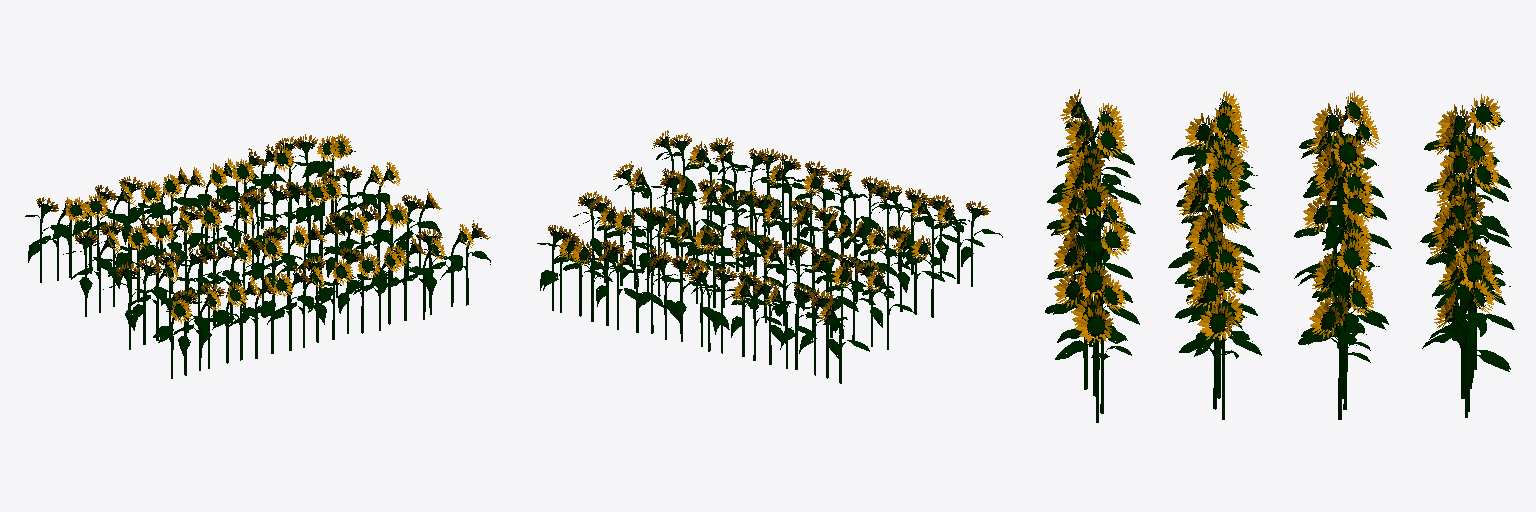
--- What the picture shows (computed from the rendered views, not written in the file) ---
Views: 3 orthographic renders of the robot side by side, from view 1: azimuth 30°, elevation 25°; view 2: azimuth 150°, elevation 25°; view 3: azimuth 270°, elevation 25°.
Robot: field — 85 links, 84 joints (84 fixed); root link dummy_link; default pose: every joint at zero.
Links seen in each view (by area): view 1: plant_56, plant_4, plant_13, plant_48, plant_20, plant_3, plant_72, plant_14, plant_7, plant_9, plant_2, plant_80 (+12 smaller); view 2: plant_69, plant_3, plant_10, plant_8, plant_13, plant_50, plant_44, plant_70, plant_2, plant_4, plant_25, plant_45 (+12 smaller); view 3: plant_84, plant_83, plant_82, plant_81, plant_73, plant_72, plant_61, plant_18, plant_78, plant_42, plant_79, plant_80 (+28 smaller).
Link boxes in pixels (x1,y1,x2,y2): plant_56: (344,253,383,333); plant_4: (153,298,192,378); plant_13: (71,193,111,273); plant_48: (315,260,353,339); plant_20: (210,282,247,363); plant_3: (103,262,152,349); plant_72: (397,238,445,319); plant_14: (115,225,151,305); plant_7: (131,259,174,344); plant_9: (51,197,89,277); plant_2: (63,231,113,316); plant_80: (432,224,473,306); plant_69: (563,239,612,321); plant_3: (905,235,955,317); plant_10: (825,263,875,339); plant_8: (934,200,984,283); plant_13: (780,283,821,369); plant_50: (685,226,734,307); plant_44: (795,169,845,247); plant_70: (605,207,653,288); plant_2: (862,267,913,349); plant_4: (950,201,1002,286); plant_25: (731,278,781,360); plant_45: (662,255,707,341); plant_84: (1055,307,1127,422); plant_83: (1179,303,1252,419); plant_82: (1298,301,1370,419); plant_81: (1434,294,1509,417); plant_73: (1422,279,1493,398); plant_72: (1045,270,1113,389); plant_61: (1435,254,1510,369); plant_18: (1307,133,1378,199); plant_78: (1301,291,1370,409); plant_42: (1294,194,1344,253); plant_79: (1190,291,1246,409); plant_80: (1060,294,1131,413).
Bounding box of the posed robot: 3.44 × 2.86 × 0.8235 m (x, y, z).
Meshes: 1 distinct files referenced, 84 mesh visuals loaded (1 Collada DAE).

robot.urdf — field:
<?xml version="1.0"?> 
<robot name="field"> 
 <!-- auto generated urdf file --> 
 <link name="dummy_link"> 
  <inertial> 
   <origin xyz="0 0 0" /> 
   <mass value="5.0" /> 
   <inertia ixx="0.0" ixy="0.0" ixz="0.0" iyy="0.0" iyz="0.0" izz="0.0" /> 
  </inertial> 
  <visual> 
   <origin xyz="0 0 0" /> 
   <geometry> 
    <box size="0.00 0.00 0.00" /> 
   </geometry> 
  </visual> 
  <collision> 
   <origin xyz="0 0 0" /> 
   <geometry> 
    <box size="0.00 0.00 0.00" /> 
   </geometry> 
  </collision> 
 </link> 
 
 
 <!-- generate plants --> <link name="plant_1">
  <inertial>
   <origin xyz="0 0 0" /> 
   <mass value="5.0" />
   <inertia ixx="0.0" ixy="0.0" ixz="0.0" iyy="0.0" iyz="0.0" izz="0.0" />
  </inertial>
  <visual>
   <origin xyz="0 0 0"/>
   <geometry>
    <mesh filename="package://herbi_gazebo_worlds/ros/meshes/sunflower.dae"/>
   </geometry>
  </visual>
  <collision>
   <origin xyz="0 0 0.2"/>
   <geometry>
    <cylinder length="0.4" radius="0.02"/>
   </geometry>
  </collision>
 </link>

 <joint name="joint_plant_1" type="fixed">
  <origin xyz="0.022650 0.402537 0.000000" rpy="0.000000 0.000000 2.392658" />
  <parent link="dummy_link" />
  <child link="plant_1" />
 </joint>


 <link name="plant_2">
  <inertial>
   <origin xyz="0 0 0" /> 
   <mass value="5.0" />
   <inertia ixx="0.0" ixy="0.0" ixz="0.0" iyy="0.0" iyz="0.0" izz="0.0" />
  </inertial>
  <visual>
   <origin xyz="0 0 0"/>
   <geometry>
    <mesh filename="package://herbi_gazebo_worlds/ros/meshes/sunflower.dae"/>
   </geometry>
  </visual>
  <collision>
   <origin xyz="0 0 0.2"/>
   <geometry>
    <cylinder length="0.4" radius="0.02"/>
   </geometry>
  </collision>
 </link>

 <joint name="joint_plant_2" type="fixed">
  <origin xyz="0.014551 -0.409560 0.000000" rpy="0.000000 0.000000 2.863765" />
  <parent link="dummy_link" />
  <child link="plant_2" />
 </joint>


 <link name="plant_3">
  <inertial>
   <origin xyz="0 0 0" /> 
   <mass value="5.0" />
   <inertia ixx="0.0" ixy="0.0" ixz="0.0" iyy="0.0" iyz="0.0" izz="0.0" />
  </inertial>
  <visual>
   <origin xyz="0 0 0"/>
   <geometry>
    <mesh filename="package://herbi_gazebo_worlds/ros/meshes/sunflower.dae"/>
   </geometry>
  </visual>
  <collision>
   <origin xyz="0 0 0.2"/>
   <geometry>
    <cylinder length="0.4" radius="0.02"/>
   </geometry>
  </collision>
 </link>

 <joint name="joint_plant_3" type="fixed">
  <origin xyz="0.009224 -1.184898 0.000000" rpy="0.000000 0.000000 3.008273" />
  <parent link="dummy_link" />
  <child link="plant_3" />
 </joint>


 <link name="plant_4">
  <inertial>
   <origin xyz="0 0 0" /> 
   <mass value="5.0" />
   <inertia ixx="0.0" ixy="0.0" ixz="0.0" iyy="0.0" iyz="0.0" izz="0.0" />
  </inertial>
  <visual>
   <origin xyz="0 0 0"/>
   <geometry>
    <mesh filename="package://herbi_gazebo_worlds/ros/meshes/sunflower.dae"/>
   </geometry>
  </visual>
  <collision>
   <origin xyz="0 0 0.2"/>
   <geometry>
    <cylinder length="0.4" radius="0.02"/>
   </geometry>
  </collision>
 </link>

 <joint name="joint_plant_4" type="fixed">
  <origin xyz="0.007748 -1.904165 0.000000" rpy="0.000000 0.000000 0.386417" />
  <parent link="dummy_link" />
  <child link="plant_4" />
 </joint>


 <link name="plant_5">
  <inertial>
   <origin xyz="0 0 0" /> 
   <mass value="5.0" />
   <inertia ixx="0.0" ixy="0.0" ixz="0.0" iyy="0.0" iyz="0.0" izz="0.0" />
  </inertial>
  <visual>
   <origin xyz="0 0 0"/>
   <geometry>
    <mesh filename="package://herbi_gazebo_worlds/ros/meshes/sunflower.dae"/>
   </geometry>
  </visual>
  <collision>
   <origin xyz="0 0 0.2"/>
   <geometry>
    <cylinder length="0.4" radius="0.02"/>
   </geometry>
  </collision>
 </link>

 <joint name="joint_plant_5" type="fixed">
  <origin xyz="0.165000 0.367909 0.000000" rpy="0.000000 0.000000 1.156627" />
  <parent link="dummy_link" />
  <child link="plant_5" />
 </joint>


 <link name="plant_6">
  <inertial>
   <origin xyz="0 0 0" /> 
   <mass value="5.0" />
   <inertia ixx="0.0" ixy="0.0" ixz="0.0" iyy="0.0" iyz="0.0" izz="0.0" />
  </inertial>
  <visual>
   <origin xyz="0 0 0"/>
   <geometry>
    <mesh filename="package://herbi_gazebo_worlds/ros/meshes/sunflower.dae"/>
   </geometry>
  </visual>
  <collision>
   <origin xyz="0 0 0.2"/>
   <geometry>
    <cylinder length="0.4" radius="0.02"/>
   </geometry>
  </collision>
 </link>

 <joint name="joint_plant_6" type="fixed">
  <origin xyz="0.152049 -0.392532 0.000000" rpy="0.000000 0.000000 1.109061" />
  <parent link="dummy_link" />
  <child link="plant_6" />
 </joint>


 <link name="plant_7">
  <inertial>
   <origin xyz="0 0 0" /> 
   <mass value="5.0" />
   <inertia ixx="0.0" ixy="0.0" ixz="0.0" iyy="0.0" iyz="0.0" izz="0.0" />
  </inertial>
  <visual>
   <origin xyz="0 0 0"/>
   <geometry>
    <mesh filename="package://herbi_gazebo_worlds/ros/meshes/sunflower.dae"/>
   </geometry>
  </visual>
  <collision>
   <origin xyz="0 0 0.2"/>
   <geometry>
    <cylinder length="0.4" radius="0.02"/>
   </geometry>
  </collision>
 </link>

 <joint name="joint_plant_7" type="fixed">
  <origin xyz="0.168627 -1.170205 0.000000" rpy="0.000000 0.000000 2.455600" />
  <parent link="dummy_link" />
  <child link="plant_7" />
 </joint>


 <link name="plant_8">
  <inertial>
   <origin xyz="0 0 0" /> 
   <mass value="5.0" />
   <inertia ixx="0.0" ixy="0.0" ixz="0.0" iyy="0.0" iyz="0.0" izz="0.0" />
  </inertial>
  <visual>
   <origin xyz="0 0 0"/>
   <geometry>
    <mesh filename="package://herbi_gazebo_worlds/ros/meshes/sunflower.dae"/>
   </geometry>
  </visual>
  <collision>
   <origin xyz="0 0 0.2"/>
   <geometry>
    <cylinder length="0.4" radius="0.02"/>
   </geometry>
  </collision>
 </link>

 <joint name="joint_plant_8" type="fixed">
  <origin xyz="0.160444 -1.905190 0.000000" rpy="0.000000 0.000000 2.803125" />
  <parent link="dummy_link" />
  <child link="plant_8" />
 </joint>


 <link name="plant_9">
  <inertial>
   <origin xyz="0 0 0" /> 
   <mass value="5.0" />
   <inertia ixx="0.0" ixy="0.0" ixz="0.0" iyy="0.0" iyz="0.0" izz="0.0" />
  </inertial>
  <visual>
   <origin xyz="0 0 0"/>
   <geometry>
    <mesh filename="package://herbi_gazebo_worlds/ros/meshes/sunflower.dae"/>
   </geometry>
  </visual>
  <collision>
   <origin xyz="0 0 0.2"/>
   <geometry>
    <cylinder length="0.4" radius="0.02"/>
   </geometry>
  </collision>
 </link>

 <joint name="joint_plant_9" type="fixed">
  <origin xyz="0.287650 0.374842 0.000000" rpy="0.000000 0.000000 0.175229" />
  <parent link="dummy_link" />
  <child link="plant_9" />
 </joint>


 <link name="plant_10">
  <inertial>
   <origin xyz="0 0 0" /> 
   <mass value="5.0" />
   <inertia ixx="0.0" ixy="0.0" ixz="0.0" iyy="0.0" iyz="0.0" izz="0.0" />
  </inertial>
  <visual>
   <origin xyz="0 0 0"/>
   <geometry>
    <mesh filename="package://herbi_gazebo_worlds/ros/meshes/sunflower.dae"/>
   </geometry>
  </visual>
  <collision>
   <origin xyz="0 0 0.2"/>
   <geometry>
    <cylinder length="0.4" radius="0.02"/>
   </geometry>
  </collision>
 </link>

 <joint name="joint_plant_10" type="fixed">
  <origin xyz="0.329199 -0.351976 0.000000" rpy="0.000000 0.000000 3.037550" />
  <parent link="dummy_link" />
  <child link="plant_10" />
 </joint>


 <link name="plant_11">
  <inertial>
   <origin xyz="0 0 0" /> 
   <mass value="5.0" />
   <inertia ixx="0.0" ixy="0.0" ixz="0.0" iyy="0.0" iyz="0.0" izz="0.0" />
  </inertial>
  <visual>
   <origin xyz="0 0 0"/>
   <geometry>
    <mesh filename="package://herbi_gazebo_worlds/ros/meshes/sunflower.dae"/>
   </geometry>
  </visual>
  <collision>
   <origin xyz="0 0 0.2"/>
   <geometry>
    <cylinder length="0.4" radius="0.02"/>
   </geometry>
  </collision>
 </link>

 <joint name="joint_plant_11" type="fixed">
  <origin xyz="0.297539 -1.158126 0.000000" rpy="0.000000 0.000000 0.938323" />
  <parent link="dummy_link" />
  <child link="plant_11" />
 </joint>


 <link name="plant_12">
  <inertial>
   <origin xyz="0 0 0" /> 
   <mass value="5.0" />
   <inertia ixx="0.0" ixy="0.0" ixz="0.0" iyy="0.0" iyz="0.0" izz="0.0" />
  </inertial>
  <visual>
   <origin xyz="0 0 0"/>
   <geometry>
    <mesh filename="package://herbi_gazebo_worlds/ros/meshes/sunflower.dae"/>
   </geometry>
  </visual>
  <collision>
   <origin xyz="0 0 0.2"/>
   <geometry>
    <cylinder length="0.4" radius="0.02"/>
   </geometry>
  </collision>
 </link>

 <joint name="joint_plant_12" type="fixed">
  <origin xyz="0.313108 -1.881996 0.000000" rpy="0.000000 0.000000 0.884265" />
  <parent link="dummy_link" />
  <child link="plant_12" />
 </joint>


 <link name="plant_13">
  <inertial>
   <origin xyz="0 0 0" /> 
   <mass value="5.0" />
   <inertia ixx="0.0" ixy="0.0" ixz="0.0" iyy="0.0" iyz="0.0" izz="0.0" />
  </inertial>
  <visual>
   <origin xyz="0 0 0"/>
   <geometry>
    <mesh filename="package://herbi_gazebo_worlds/ros/meshes/sunflower.dae"/>
   </geometry>
  </visual>
  <collision>
   <origin xyz="0 0 0.2"/>
   <geometry>
    <cylinder length="0.4" radius="0.02"/>
   </geometry>
  </collision>
 </link>

 <joint name="joint_plant_13" type="fixed">
  <origin xyz="0.483776 0.360503 0.000000" rpy="0.000000 0.000000 0.172885" />
  <parent link="dummy_link" />
  <child link="plant_13" />
 </joint>


 <link name="plant_14">
  <inertial>
   <origin xyz="0 0 0" /> 
   <mass value="5.0" />
   <inertia ixx="0.0" ixy="0.0" ixz="0.0" iyy="0.0" iyz="0.0" izz="0.0" />
  </inertial>
  <visual>
   <origin xyz="0 0 0"/>
   <geometry>
    <mesh filename="package://herbi_gazebo_worlds/ros/meshes/sunflower.dae"/>
   </geometry>
  </visual>
  <collision>
   <origin xyz="0 0 0.2"/>
   <geometry>
    <cylinder length="0.4" radius="0.02"/>
   </geometry>
  </collision>
 </link>

 <joint name="joint_plant_14" type="fixed">
  <origin xyz="0.456946 -0.398342 0.000000" rpy="0.000000 0.000000 0.289723" />
  <parent link="dummy_link" />
  <child link="plant_14" />
 </joint>


 <link name="plant_15">
  <inertial>
   <origin xyz="0 0 0" /> 
   <mass value="5.0" />
   <inertia ixx="0.0" ixy="0.0" ixz="0.0" iyy="0.0" iyz="0.0" izz="0.0" />
  </inertial>
  <visual>
   <origin xyz="0 0 0"/>
   <geometry>
    <mesh filename="package://herbi_gazebo_worlds/ros/meshes/sunflower.dae"/>
   </geometry>
  </visual>
  <collision>
   <origin xyz="0 0 0.2"/>
   <geometry>
    <cylinder length="0.4" radius="0.02"/>
   </geometry>
  </collision>
 </link>

 <joint name="joint_plant_15" type="fixed">
  <origin xyz="0.441535 -1.148124 0.000000" rpy="0.000000 0.000000 2.990609" />
  <parent link="dummy_link" />
  <child link="plant_15" />
 </joint>


 <link name="plant_16">
  <inertial>
   <origin xyz="0 0 0" /> 
   <mass value="5.0" />
   <inertia ixx="0.0" ixy="0.0" ixz="0.0" iyy="0.0" iyz="0.0" izz="0.0" />
  </inertial>
  <visual>
   <origin xyz="0 0 0"/>
   <geometry>
    <mesh filename="package://herbi_gazebo_worlds/ros/meshes/sunflower.dae"/>
   </geometry>
  </visual>
  <collision>
   <origin xyz="0 0 0.2"/>
   <geometry>
    <cylinder length="0.4" radius="0.02"/>
   </geometry>
  </collision>
 </link>

 <joint name="joint_plant_16" type="fixed">
  <origin xyz="0.410726 -1.887773 0.000000" rpy="0.000000 0.000000 2.582077" />
  <parent link="dummy_link" />
  <child link="plant_16" />
 </joint>


 <link name="plant_17">
  <inertial>
   <origin xyz="0 0 0" /> 
   <mass value="5.0" />
   <inertia ixx="0.0" ixy="0.0" ixz="0.0" iyy="0.0" iyz="0.0" izz="0.0" />
  </inertial>
  <visual>
   <origin xyz="0 0 0"/>
   <geometry>
    <mesh filename="package://herbi_gazebo_worlds/ros/meshes/sunflower.dae"/>
   </geometry>
  </visual>
  <collision>
   <origin xyz="0 0 0.2"/>
   <geometry>
    <cylinder length="0.4" radius="0.02"/>
   </geometry>
  </collision>
 </link>

 <joint name="joint_plant_17" type="fixed">
  <origin xyz="0.585781 0.370287 0.000000" rpy="0.000000 0.000000 2.284326" />
  <parent link="dummy_link" />
  <child link="plant_17" />
 </joint>


 <link name="plant_18">
  <inertial>
   <origin xyz="0 0 0" /> 
   <mass value="5.0" />
   <inertia ixx="0.0" ixy="0.0" ixz="0.0" iyy="0.0" iyz="0.0" izz="0.0" />
  </inertial>
  <visual>
   <origin xyz="0 0 0"/>
   <geometry>
    <mesh filename="package://herbi_gazebo_worlds/ros/meshes/sunflower.dae"/>
   </geometry>
  </visual>
  <collision>
   <origin xyz="0 0 0.2"/>
   <geometry>
    <cylinder length="0.4" radius="0.02"/>
   </geometry>
  </collision>
 </link>

 <joint name="joint_plant_18" type="fixed">
  <origin xyz="0.563547 -0.376160 0.000000" rpy="0.000000 0.000000 1.918391" />
  <parent link="dummy_link" />
  <child link="plant_18" />
 </joint>


 <link name="plant_19">
  <inertial>
   <origin xyz="0 0 0" /> 
   <mass value="5.0" />
   <inertia ixx="0.0" ixy="0.0" ixz="0.0" iyy="0.0" iyz="0.0" izz="0.0" />
  </inertial>
  <visual>
   <origin xyz="0 0 0"/>
   <geometry>
    <mesh filename="package://herbi_gazebo_worlds/ros/meshes/sunflower.dae"/>
   </geometry>
  </visual>
  <collision>
   <origin xyz="0 0 0.2"/>
   <geometry>
    <cylinder length="0.4" radius="0.02"/>
   </geometry>
  </collision>
 </link>

 <joint name="joint_plant_19" type="fixed">
  <origin xyz="0.619727 -1.146979 0.000000" rpy="0.000000 0.000000 2.057699" />
  <parent link="dummy_link" />
  <child link="plant_19" />
 </joint>


 <link name="plant_20">
  <inertial>
   <origin xyz="0 0 0" /> 
   <mass value="5.0" />
   <inertia ixx="0.0" ixy="0.0" ixz="0.0" iyy="0.0" iyz="0.0" izz="0.0" />
  </inertial>
  <visual>
   <origin xyz="0 0 0"/>
   <geometry>
    <mesh filename="package://herbi_gazebo_worlds/ros/meshes/sunflower.dae"/>
   </geometry>
  </visual>
  <collision>
   <origin xyz="0 0 0.2"/>
   <geometry>
    <cylinder length="0.4" radius="0.02"/>
   </geometry>
  </collision>
 </link>

 <joint name="joint_plant_20" type="fixed">
  <origin xyz="0.592006 -1.866068 0.000000" rpy="0.000000 0.000000 0.443964" />
  <parent link="dummy_link" />
  <child link="plant_20" />
 </joint>


 <link name="plant_21">
  <inertial>
   <origin xyz="0 0 0" /> 
   <mass value="5.0" />
   <inertia ixx="0.0" ixy="0.0" ixz="0.0" iyy="0.0" iyz="0.0" izz="0.0" />
  </inertial>
  <visual>
   <origin xyz="0 0 0"/>
   <geometry>
    <mesh filename="package://herbi_gazebo_worlds/ros/meshes/sunflower.dae"/>
   </geometry>
  </visual>
  <collision>
   <origin xyz="0 0 0.2"/>
   <geometry>
    <cylinder length="0.4" radius="0.02"/>
   </geometry>
  </collision>
 </link>

 <joint name="joint_plant_21" type="fixed">
  <origin xyz="0.741492 0.376194 0.000000" rpy="0.000000 0.000000 1.219706" />
  <parent link="dummy_link" />
  <child link="plant_21" />
 </joint>


 <link name="plant_22">
  <inertial>
   <origin xyz="0 0 0" /> 
   <mass value="5.0" />
   <inertia ixx="0.0" ixy="0.0" ixz="0.0" iyy="0.0" iyz="0.0" izz="0.0" />
  </inertial>
  <visual>
   <origin xyz="0 0 0"/>
   <geometry>
    <mesh filename="package://herbi_gazebo_worlds/ros/meshes/sunflower.dae"/>
   </geometry>
  </visual>
  <collision>
   <origin xyz="0 0 0.2"/>
   <geometry>
    <cylinder length="0.4" radius="0.02"/>
   </geometry>
  </collision>
 </link>

 <joint name="joint_plant_22" type="fixed">
  <origin xyz="0.737460 -0.376696 0.000000" rpy="0.000000 0.000000 0.160917" />
  <parent link="dummy_link" />
  <child link="plant_22" />
 </joint>


 <link name="plant_23">
  <inertial>
   <origin xyz="0 0 0" /> 
   <mass value="5.0" />
   <inertia ixx="0.0" ixy="0.0" ixz="0.0" iyy="0.0" iyz="0.0" izz="0.0" />
  </inertial>
  <visual>
   <origin xyz="0 0 0"/>
   <geometry>
    <mesh filename="package://herbi_gazebo_worlds/ros/meshes/sunflower.dae"/>
   </geometry>
  </visual>
  <collision>
   <origin xyz="0 0 0.2"/>
   <geometry>
    <cylinder length="0.4" radius="0.02"/>
   </geometry>
  </collision>
 </link>

 <joint name="joint_plant_23" type="fixed">
  <origin xyz="0.743749 -1.129476 0.000000" rpy="0.000000 0.000000 2.115258" />
  <parent link="dummy_link" />
  <child link="plant_23" />
 </joint>


 <link name="plant_24">
  <inertial>
   <origin xyz="0 0 0" /> 
   <mass value="5.0" />
   <inertia ixx="0.0" ixy="0.0" ixz="0.0" iyy="0.0" iyz="0.0" izz="0.0" />
  </inertial>
  <visual>
   <origin xyz="0 0 0"/>
   <geometry>
    <mesh filename="package://herbi_gazebo_worlds/ros/meshes/sunflower.dae"/>
   </geometry>
  </visual>
  <collision>
   <origin xyz="0 0 0.2"/>
   <geometry>
    <cylinder length="0.4" radius="0.02"/>
   </geometry>
  </collision>
 </link>

 <joint name="joint_plant_24" type="fixed">
  <origin xyz="0.736124 -1.877871 0.000000" rpy="0.000000 0.000000 1.322558" />
  <parent link="dummy_link" />
  <child link="plant_24" />
 </joint>


 <link name="plant_25">
  <inertial>
   <origin xyz="0 0 0" /> 
   <mass value="5.0" />
   <inertia ixx="0.0" ixy="0.0" ixz="0.0" iyy="0.0" iyz="0.0" izz="0.0" />
  </inertial>
  <visual>
   <origin xyz="0 0 0"/>
   <geometry>
    <mesh filename="package://herbi_gazebo_worlds/ros/meshes/sunflower.dae"/>
   </geometry>
  </visual>
  <collision>
   <origin xyz="0 0 0.2"/>
   <geometry>
    <cylinder length="0.4" radius="0.02"/>
   </geometry>
  </collision>
 </link>

 <joint name="joint_plant_25" type="fixed">
  <origin xyz="0.908204 0.379974 0.000000" rpy="0.000000 0.000000 2.714135" />
  <parent link="dummy_link" />
  <child link="plant_25" />
 </joint>


 <link name="plant_26">
  <inertial>
   <origin xyz="0 0 0" /> 
   <mass value="5.0" />
   <inertia ixx="0.0" ixy="0.0" ixz="0.0" iyy="0.0" iyz="0.0" izz="0.0" />
  </inertial>
  <visual>
   <origin xyz="0 0 0"/>
   <geometry>
    <mesh filename="package://herbi_gazebo_worlds/ros/meshes/sunflower.dae"/>
   </geometry>
  </visual>
  <collision>
   <origin xyz="0 0 0.2"/>
   <geometry>
    <cylinder length="0.4" radius="0.02"/>
   </geometry>
  </collision>
 </link>

 <joint name="joint_plant_26" type="fixed">
  <origin xyz="0.894797 -0.379992 0.000000" rpy="0.000000 0.000000 0.953524" />
  <parent link="dummy_link" />
  <child link="plant_26" />
 </joint>


 <link name="plant_27">
  <inertial>
   <origin xyz="0 0 0" /> 
   <mass value="5.0" />
   <inertia ixx="0.0" ixy="0.0" ixz="0.0" iyy="0.0" iyz="0.0" izz="0.0" />
  </inertial>
  <visual>
   <origin xyz="0 0 0"/>
   <geometry>
    <mesh filename="package://herbi_gazebo_worlds/ros/meshes/sunflower.dae"/>
   </geometry>
  </visual>
  <collision>
   <origin xyz="0 0 0.2"/>
   <geometry>
    <cylinder length="0.4" radius="0.02"/>
   </geometry>
  </collision>
 </link>

 <joint name="joint_plant_27" type="fixed">
  <origin xyz="0.895887 -1.139719 0.000000" rpy="0.000000 0.000000 1.957364" />
  <parent link="dummy_link" />
  <child link="plant_27" />
 </joint>


 <link name="plant_28">
  <inertial>
   <origin xyz="0 0 0" /> 
   <mass value="5.0" />
   <inertia ixx="0.0" ixy="0.0" ixz="0.0" iyy="0.0" iyz="0.0" izz="0.0" />
  </inertial>
  <visual>
   <origin xyz="0 0 0"/>
   <geometry>
    <mesh filename="package://herbi_gazebo_worlds/ros/meshes/sunflower.dae"/>
   </geometry>
  </visual>
  <collision>
   <origin xyz="0 0 0.2"/>
   <geometry>
    <cylinder length="0.4" radius="0.02"/>
   </geometry>
  </collision>
 </link>

 <joint name="joint_plant_28" type="fixed">
  <origin xyz="0.868915 -1.913621 0.000000" rpy="0.000000 0.000000 1.397398" />
  <parent link="dummy_link" />
  <child link="plant_28" />
 </joint>


 <link name="plant_29">
  <inertial>
   <origin xyz="0 0 0" /> 
   <mass value="5.0" />
   <inertia ixx="0.0" ixy="0.0" ixz="0.0" iyy="0.0" iyz="0.0" izz="0.0" />
  </inertial>
  <visual>
   <origin xyz="0 0 0"/>
   <geometry>
    <mesh filename="package://herbi_gazebo_worlds/ros/meshes/sunflower.dae"/>
   </geometry>
  </visual>
  <collision>
   <origin xyz="0 0 0.2"/>
   <geometry>
    <cylinder length="0.4" radius="0.02"/>
   </geometry>
  </collision>
 </link>

 <joint name="joint_plant_29" type="fixed">
  <origin xyz="1.020995 0.361248 0.000000" rpy="0.000000 0.000000 0.334051" />
  <parent link="dummy_link" />
  <child link="plant_29" />
 </joint>


 <link name="plant_30">
  <inertial>
   <origin xyz="0 0 0" /> 
   <mass value="5.0" />
   <inertia ixx="0.0" ixy="0.0" ixz="0.0" iyy="0.0" iyz="0.0" izz="0.0" />
  </inertial>
  <visual>
   <origin xyz="0 0 0"/>
   <geometry>
    <mesh filename="package://herbi_gazebo_worlds/ros/meshes/sunflower.dae"/>
   </geometry>
  </visual>
  <collision>
   <origin xyz="0 0 0.2"/>
   <geometry>
    <cylinder length="0.4" radius="0.02"/>
   </geometry>
  </collision>
 </link>

 <joint name="joint_plant_30" type="fixed">
  <origin xyz="1.045729 -0.385121 0.000000" rpy="0.000000 0.000000 2.522998" />
  <parent link="dummy_link" />
  <child link="plant_30" />
 </joint>


 <link name="plant_31">
  <inertial>
   <origin xyz="0 0 0" /> 
   <mass value="5.0" />
   <inertia ixx="0.0" ixy="0.0" ixz="0.0" iyy="0.0" iyz="0.0" izz="0.0" />
  </inertial>
  <visual>
   <origin xyz="0 0 0"/>
   <geometry>
    <mesh filename="package://herbi_gazebo_worlds/ros/meshes/sunflower.dae"/>
   </geometry>
  </visual>
  <collision>
   <origin xyz="0 0 0.2"/>
   <geometry>
    <cylinder length="0.4" radius="0.02"/>
   </geometry>
  </collision>
 </link>

 <joint name="joint_plant_31" type="fixed">
  <origin xyz="1.045980 -1.161536 0.000000" rpy="0.000000 0.000000 0.845428" />
  <parent link="dummy_link" />
  <child link="plant_31" />
 </joint>


 <link name="plant_32">
  <inertial>
   <origin xyz="0 0 0" /> 
   <mass value="5.0" />
   <inertia ixx="0.0" ixy="0.0" ixz="0.0" iyy="0.0" iyz="0.0" izz="0.0" />
  </inertial>
  <visual>
   <origin xyz="0 0 0"/>
   <geometry>
    <mesh filename="package://herbi_gazebo_worlds/ros/meshes/sunflower.dae"/>
   </geometry>
  </visual>
  <collision>
   <origin xyz="0 0 0.2"/>
   <geometry>
    <cylinder length="0.4" radius="0.02"/>
   </geometry>
  </collision>
 </link>

 <joint name="joint_plant_32" type="fixed">
  <origin xyz="1.038719 -1.892348 0.000000" rpy="0.000000 0.000000 0.533159" />
  <parent link="dummy_link" />
  <child link="plant_32" />
 </joint>


 <link name="plant_33">
  <inertial>
   <origin xyz="0 0 0" /> 
   <mass value="5.0" />
   <inertia ixx="0.0" ixy="0.0" ixz="0.0" iyy="0.0" iyz="0.0" izz="0.0" />
  </inertial>
  <visual>
   <origin xyz="0 0 0"/>
   <geometry>
    <mesh filename="package://herbi_gazebo_worlds/ros/meshes/sunflower.dae"/>
   </geometry>
  </visual>
  <collision>
   <origin xyz="0 0 0.2"/>
   <geometry>
    <cylinder length="0.4" radius="0.02"/>
   </geometry>
  </collision>
 </link>

 <joint name="joint_plant_33" type="fixed">
  <origin xyz="1.223341 0.382433 0.000000" rpy="0.000000 0.000000 0.516128" />
  <parent link="dummy_link" />
  <child link="plant_33" />
 </joint>


 <link name="plant_34">
  <inertial>
   <origin xyz="0 0 0" /> 
   <mass value="5.0" />
   <inertia ixx="0.0" ixy="0.0" ixz="0.0" iyy="0.0" iyz="0.0" izz="0.0" />
  </inertial>
  <visual>
   <origin xyz="0 0 0"/>
   <geometry>
    <mesh filename="package://herbi_gazebo_worlds/ros/meshes/sunflower.dae"/>
   </geometry>
  </visual>
  <collision>
   <origin xyz="0 0 0.2"/>
   <geometry>
    <cylinder length="0.4" radius="0.02"/>
   </geometry>
  </collision>
 </link>

 <joint name="joint_plant_34" type="fixed">
  <origin xyz="1.206796 -0.351131 0.000000" rpy="0.000000 0.000000 0.390661" />
  <parent link="dummy_link" />
  <child link="plant_34" />
 </joint>


 <link name="plant_35">
  <inertial>
   <origin xyz="0 0 0" /> 
   <mass value="5.0" />
   <inertia ixx="0.0" ixy="0.0" ixz="0.0" iyy="0.0" iyz="0.0" izz="0.0" />
  </inertial>
  <visual>
   <origin xyz="0 0 0"/>
   <geometry>
    <mesh filename="package://herbi_gazebo_worlds/ros/meshes/sunflower.dae"/>
   </geometry>
  </visual>
  <collision>
   <origin xyz="0 0 0.2"/>
   <geometry>
    <cylinder length="0.4" radius="0.02"/>
   </geometry>
  </collision>
 </link>

 <joint name="joint_plant_35" type="fixed">
  <origin xyz="1.191367 -1.152161 0.000000" rpy="0.000000 0.000000 2.177868" />
  <parent link="dummy_link" />
  <child link="plant_35" />
 </joint>


 <link name="plant_36">
  <inertial>
   <origin xyz="0 0 0" /> 
   <mass value="5.0" />
   <inertia ixx="0.0" ixy="0.0" ixz="0.0" iyy="0.0" iyz="0.0" izz="0.0" />
  </inertial>
  <visual>
   <origin xyz="0 0 0"/>
   <geometry>
    <mesh filename="package://herbi_gazebo_worlds/ros/meshes/sunflower.dae"/>
   </geometry>
  </visual>
  <collision>
   <origin xyz="0 0 0.2"/>
   <geometry>
    <cylinder length="0.4" radius="0.02"/>
   </geometry>
  </collision>
 </link>

 <joint name="joint_plant_36" type="fixed">
  <origin xyz="1.213536 -1.922120 0.000000" rpy="0.000000 0.000000 1.879747" />
  <parent link="dummy_link" />
  <child link="plant_36" />
 </joint>


 <link name="plant_37">
  <inertial>
   <origin xyz="0 0 0" /> 
   <mass value="5.0" />
   <inertia ixx="0.0" ixy="0.0" ixz="0.0" iyy="0.0" iyz="0.0" izz="0.0" />
  </inertial>
  <visual>
   <origin xyz="0 0 0"/>
   <geometry>
    <mesh filename="package://herbi_gazebo_worlds/ros/meshes/sunflower.dae"/>
   </geometry>
  </visual>
  <collision>
   <origin xyz="0 0 0.2"/>
   <geometry>
    <cylinder length="0.4" radius="0.02"/>
   </geometry>
  </collision>
 </link>

 <joint name="joint_plant_37" type="fixed">
  <origin xyz="1.349674 0.401496 0.000000" rpy="0.000000 0.000000 1.500963" />
  <parent link="dummy_link" />
  <child link="plant_37" />
 </joint>


 <link name="plant_38">
  <inertial>
   <origin xyz="0 0 0" /> 
   <mass value="5.0" />
   <inertia ixx="0.0" ixy="0.0" ixz="0.0" iyy="0.0" iyz="0.0" izz="0.0" />
  </inertial>
  <visual>
   <origin xyz="0 0 0"/>
   <geometry>
    <mesh filename="package://herbi_gazebo_worlds/ros/meshes/sunflower.dae"/>
   </geometry>
  </visual>
  <collision>
   <origin xyz="0 0 0.2"/>
   <geometry>
    <cylinder length="0.4" radius="0.02"/>
   </geometry>
  </collision>
 </link>

 <joint name="joint_plant_38" type="fixed">
  <origin xyz="1.339996 -0.367892 0.000000" rpy="0.000000 0.000000 2.389155" />
  <parent link="dummy_link" />
  <child link="plant_38" />
 </joint>


 <link name="plant_39">
  <inertial>
   <origin xyz="0 0 0" /> 
   <mass value="5.0" />
   <inertia ixx="0.0" ixy="0.0" ixz="0.0" iyy="0.0" iyz="0.0" izz="0.0" />
  </inertial>
  <visual>
   <origin xyz="0 0 0"/>
   <geometry>
    <mesh filename="package://herbi_gazebo_worlds/ros/meshes/sunflower.dae"/>
   </geometry>
  </visual>
  <collision>
   <origin xyz="0 0 0.2"/>
   <geometry>
    <cylinder length="0.4" radius="0.02"/>
   </geometry>
  </collision>
 </link>

 <joint name="joint_plant_39" type="fixed">
  <origin xyz="1.351570 -1.179538 0.000000" rpy="0.000000 0.000000 0.491744" />
  <parent link="dummy_link" />
  <child link="plant_39" />
 </joint>


 <link name="plant_40">
  <inertial>
   <origin xyz="0 0 0" /> 
   <mass value="5.0" />
   <inertia ixx="0.0" ixy="0.0" ixz="0.0" iyy="0.0" iyz="0.0" izz="0.0" />
  </inertial>
  <visual>
   <origin xyz="0 0 0"/>
   <geometry>
    <mesh filename="package://herbi_gazebo_worlds/ros/meshes/sunflower.dae"/>
   </geometry>
  </visual>
  <collision>
   <origin xyz="0 0 0.2"/>
   <geometry>
    <cylinder length="0.4" radius="0.02"/>
   </geometry>
  </collision>
 </link>

 <joint name="joint_plant_40" type="fixed">
  <origin xyz="1.338602 -1.932524 0.000000" rpy="0.000000 0.000000 0.972397" />
  <parent link="dummy_link" />
  <child link="plant_40" />
 </joint>


 <link name="plant_41">
  <inertial>
   <origin xyz="0 0 0" /> 
   <mass value="5.0" />
   <inertia ixx="0.0" ixy="0.0" ixz="0.0" iyy="0.0" iyz="0.0" izz="0.0" />
  </inertial>
  <visual>
   <origin xyz="0 0 0"/>
   <geometry>
    <mesh filename="package://herbi_gazebo_worlds/ros/meshes/sunflower.dae"/>
   </geometry>
  </visual>
  <collision>
   <origin xyz="0 0 0.2"/>
   <geometry>
    <cylinder length="0.4" radius="0.02"/>
   </geometry>
  </collision>
 </link>

 <joint name="joint_plant_41" type="fixed">
  <origin xyz="1.450498 0.350764 0.000000" rpy="0.000000 0.000000 1.319029" />
  <parent link="dummy_link" />
  <child link="plant_41" />
 </joint>


 <link name="plant_42">
  <inertial>
   <origin xyz="0 0 0" /> 
   <mass value="5.0" />
   <inertia ixx="0.0" ixy="0.0" ixz="0.0" iyy="0.0" iyz="0.0" izz="0.0" />
  </inertial>
  <visual>
   <origin xyz="0 0 0"/>
   <geometry>
    <mesh filename="package://herbi_gazebo_worlds/ros/meshes/sunflower.dae"/>
   </geometry>
  </visual>
  <collision>
   <origin xyz="0 0 0.2"/>
   <geometry>
    <cylinder length="0.4" radius="0.02"/>
   </geometry>
  </collision>
 </link>

 <joint name="joint_plant_42" type="fixed">
  <origin xyz="1.476801 -0.440327 0.000000" rpy="0.000000 0.000000 0.890843" />
  <parent link="dummy_link" />
  <child link="plant_42" />
 </joint>


 <link name="plant_43">
  <inertial>
   <origin xyz="0 0 0" /> 
   <mass value="5.0" />
   <inertia ixx="0.0" ixy="0.0" ixz="0.0" iyy="0.0" iyz="0.0" izz="0.0" />
  </inertial>
  <visual>
   <origin xyz="0 0 0"/>
   <geometry>
    <mesh filename="package://herbi_gazebo_worlds/ros/meshes/sunflower.dae"/>
   </geometry>
  </visual>
  <collision>
   <origin xyz="0 0 0.2"/>
   <geometry>
    <cylinder length="0.4" radius="0.02"/>
   </geometry>
  </collision>
 </link>

 <joint name="joint_plant_43" type="fixed">
  <origin xyz="1.486865 -1.161584 0.000000" rpy="0.000000 0.000000 2.714650" />
  <parent link="dummy_link" />
  <child link="plant_43" />
 </joint>


 <link name="plant_44">
  <inertial>
   <origin xyz="0 0 0" /> 
   <mass value="5.0" />
   <inertia ixx="0.0" ixy="0.0" ixz="0.0" iyy="0.0" iyz="0.0" izz="0.0" />
  </inertial>
  <visual>
   <origin xyz="0 0 0"/>
   <geometry>
    <mesh filename="package://herbi_gazebo_worlds/ros/meshes/sunflower.dae"/>
   </geometry>
  </visual>
  <collision>
   <origin xyz="0 0 0.2"/>
   <geometry>
    <cylinder length="0.4" radius="0.02"/>
   </geometry>
  </collision>
 </link>

 <joint name="joint_plant_44" type="fixed">
  <origin xyz="1.513462 -1.886352 0.000000" rpy="0.000000 0.000000 3.084644" />
  <parent link="dummy_link" />
  <child link="plant_44" />
 </joint>


 <link name="plant_45">
  <inertial>
   <origin xyz="0 0 0" /> 
   <mass value="5.0" />
   <inertia ixx="0.0" ixy="0.0" ixz="0.0" iyy="0.0" iyz="0.0" izz="0.0" />
  </inertial>
  <visual>
   <origin xyz="0 0 0"/>
   <geometry>
    <mesh filename="package://herbi_gazebo_worlds/ros/meshes/sunflower.dae"/>
   </geometry>
  </visual>
  <collision>
   <origin xyz="0 0 0.2"/>
   <geometry>
    <cylinder length="0.4" radius="0.02"/>
   </geometry>
  </collision>
 </link>

 <joint name="joint_plant_45" type="fixed">
  <origin xyz="1.657556 0.345131 0.000000" rpy="0.000000 0.000000 0.686540" />
  <parent link="dummy_link" />
  <child link="plant_45" />
 </joint>


 <link name="plant_46">
  <inertial>
   <origin xyz="0 0 0" /> 
   <mass value="5.0" />
   <inertia ixx="0.0" ixy="0.0" ixz="0.0" iyy="0.0" iyz="0.0" izz="0.0" />
  </inertial>
  <visual>
   <origin xyz="0 0 0"/>
   <geometry>
    <mesh filename="package://herbi_gazebo_worlds/ros/meshes/sunflower.dae"/>
   </geometry>
  </visual>
  <collision>
   <origin xyz="0 0 0.2"/>
   <geometry>
    <cylinder length="0.4" radius="0.02"/>
   </geometry>
  </collision>
 </link>

 <joint name="joint_plant_46" type="fixed">
  <origin xyz="1.698343 -0.432254 0.000000" rpy="0.000000 0.000000 3.036201" />
  <parent link="dummy_link" />
  <child link="plant_46" />
 </joint>


 <link name="plant_47">
  <inertial>
   <origin xyz="0 0 0" /> 
   <mass value="5.0" />
   <inertia ixx="0.0" ixy="0.0" ixz="0.0" iyy="0.0" iyz="0.0" izz="0.0" />
  </inertial>
  <visual>
   <origin xyz="0 0 0"/>
   <geometry>
    <mesh filename="package://herbi_gazebo_worlds/ros/meshes/sunflower.dae"/>
   </geometry>
  </visual>
  <collision>
   <origin xyz="0 0 0.2"/>
   <geometry>
    <cylinder length="0.4" radius="0.02"/>
   </geometry>
  </collision>
 </link>

 <joint name="joint_plant_47" type="fixed">
  <origin xyz="1.653411 -1.113539 0.000000" rpy="0.000000 0.000000 0.779181" />
  <parent link="dummy_link" />
  <child link="plant_47" />
 </joint>


 <link name="plant_48">
  <inertial>
   <origin xyz="0 0 0" /> 
   <mass value="5.0" />
   <inertia ixx="0.0" ixy="0.0" ixz="0.0" iyy="0.0" iyz="0.0" izz="0.0" />
  </inertial>
  <visual>
   <origin xyz="0 0 0"/>
   <geometry>
    <mesh filename="package://herbi_gazebo_worlds/ros/meshes/sunflower.dae"/>
   </geometry>
  </visual>
  <collision>
   <origin xyz="0 0 0.2"/>
   <geometry>
    <cylinder length="0.4" radius="0.02"/>
   </geometry>
  </collision>
 </link>

 <joint name="joint_plant_48" type="fixed">
  <origin xyz="1.647020 -1.915523 0.000000" rpy="0.000000 0.000000 0.395102" />
  <parent link="dummy_link" />
  <child link="plant_48" />
 </joint>


 <link name="plant_49">
  <inertial>
   <origin xyz="0 0 0" /> 
   <mass value="5.0" />
   <inertia ixx="0.0" ixy="0.0" ixz="0.0" iyy="0.0" iyz="0.0" izz="0.0" />
  </inertial>
  <visual>
   <origin xyz="0 0 0"/>
   <geometry>
    <mesh filename="package://herbi_gazebo_worlds/ros/meshes/sunflower.dae"/>
   </geometry>
  </visual>
  <collision>
   <origin xyz="0 0 0.2"/>
   <geometry>
    <cylinder length="0.4" radius="0.02"/>
   </geometry>
  </collision>
 </link>

 <joint name="joint_plant_49" type="fixed">
  <origin xyz="1.797816 0.380320 0.000000" rpy="0.000000 0.000000 1.172899" />
  <parent link="dummy_link" />
  <child link="plant_49" />
 </joint>


 <link name="plant_50">
  <inertial>
   <origin xyz="0 0 0" /> 
   <mass value="5.0" />
   <inertia ixx="0.0" ixy="0.0" ixz="0.0" iyy="0.0" iyz="0.0" izz="0.0" />
  </inertial>
  <visual>
   <origin xyz="0 0 0"/>
   <geometry>
    <mesh filename="package://herbi_gazebo_worlds/ros/meshes/sunflower.dae"/>
   </geometry>
  </visual>
  <collision>
   <origin xyz="0 0 0.2"/>
   <geometry>
    <cylinder length="0.4" radius="0.02"/>
   </geometry>
  </collision>
 </link>

 <joint name="joint_plant_50" type="fixed">
  <origin xyz="1.768429 -0.398291 0.000000" rpy="0.000000 0.000000 3.124368" />
  <parent link="dummy_link" />
  <child link="plant_50" />
 </joint>


 <link name="plant_51">
  <inertial>
   <origin xyz="0 0 0" /> 
   <mass value="5.0" />
   <inertia ixx="0.0" ixy="0.0" ixz="0.0" iyy="0.0" iyz="0.0" izz="0.0" />
  </inertial>
  <visual>
   <origin xyz="0 0 0"/>
   <geometry>
    <mesh filename="package://herbi_gazebo_worlds/ros/meshes/sunflower.dae"/>
   </geometry>
  </visual>
  <collision>
   <origin xyz="0 0 0.2"/>
   <geometry>
    <cylinder length="0.4" radius="0.02"/>
   </geometry>
  </collision>
 </link>

 <joint name="joint_plant_51" type="fixed">
  <origin xyz="1.785737 -1.178777 0.000000" rpy="0.000000 0.000000 1.452769" />
  <parent link="dummy_link" />
  <child link="plant_51" />
 </joint>


 <link name="plant_52">
  <inertial>
   <origin xyz="0 0 0" /> 
   <mass value="5.0" />
   <inertia ixx="0.0" ixy="0.0" ixz="0.0" iyy="0.0" iyz="0.0" izz="0.0" />
  </inertial>
  <visual>
   <origin xyz="0 0 0"/>
   <geometry>
    <mesh filename="package://herbi_gazebo_worlds/ros/meshes/sunflower.dae"/>
   </geometry>
  </visual>
  <collision>
   <origin xyz="0 0 0.2"/>
   <geometry>
    <cylinder length="0.4" radius="0.02"/>
   </geometry>
  </collision>
 </link>

 <joint name="joint_plant_52" type="fixed">
  <origin xyz="1.839485 -1.858994 0.000000" rpy="0.000000 0.000000 2.574172" />
  <parent link="dummy_link" />
  <child link="plant_52" />
 </joint>


 <link name="plant_53">
  <inertial>
   <origin xyz="0 0 0" /> 
   <mass value="5.0" />
   <inertia ixx="0.0" ixy="0.0" ixz="0.0" iyy="0.0" iyz="0.0" izz="0.0" />
  </inertial>
  <visual>
   <origin xyz="0 0 0"/>
   <geometry>
    <mesh filename="package://herbi_gazebo_worlds/ros/meshes/sunflower.dae"/>
   </geometry>
  </visual>
  <collision>
   <origin xyz="0 0 0.2"/>
   <geometry>
    <cylinder length="0.4" radius="0.02"/>
   </geometry>
  </collision>
 </link>

 <joint name="joint_plant_53" type="fixed">
  <origin xyz="1.960613 0.337539 0.000000" rpy="0.000000 0.000000 0.198830" />
  <parent link="dummy_link" />
  <child link="plant_53" />
 </joint>


 <link name="plant_54">
  <inertial>
   <origin xyz="0 0 0" /> 
   <mass value="5.0" />
   <inertia ixx="0.0" ixy="0.0" ixz="0.0" iyy="0.0" iyz="0.0" izz="0.0" />
  </inertial>
  <visual>
   <origin xyz="0 0 0"/>
   <geometry>
    <mesh filename="package://herbi_gazebo_worlds/ros/meshes/sunflower.dae"/>
   </geometry>
  </visual>
  <collision>
   <origin xyz="0 0 0.2"/>
   <geometry>
    <cylinder length="0.4" radius="0.02"/>
   </geometry>
  </collision>
 </link>

 <joint name="joint_plant_54" type="fixed">
  <origin xyz="1.940208 -0.392085 0.000000" rpy="0.000000 0.000000 2.478832" />
  <parent link="dummy_link" />
  <child link="plant_54" />
 </joint>


 <link name="plant_55">
  <inertial>
   <origin xyz="0 0 0" /> 
   <mass value="5.0" />
   <inertia ixx="0.0" ixy="0.0" ixz="0.0" iyy="0.0" iyz="0.0" izz="0.0" />
  </inertial>
  <visual>
   <origin xyz="0 0 0"/>
   <geometry>
    <mesh filename="package://herbi_gazebo_worlds/ros/meshes/sunflower.dae"/>
   </geometry>
  </visual>
  <collision>
   <origin xyz="0 0 0.2"/>
   <geometry>
    <cylinder length="0.4" radius="0.02"/>
   </geometry>
  </collision>
 </link>

 <joint name="joint_plant_55" type="fixed">
  <origin xyz="1.962831 -1.152235 0.000000" rpy="0.000000 0.000000 1.675572" />
  <parent link="dummy_link" />
  <child link="plant_55" />
 </joint>


 <link name="plant_56">
  <inertial>
   <origin xyz="0 0 0" /> 
   <mass value="5.0" />
   <inertia ixx="0.0" ixy="0.0" ixz="0.0" iyy="0.0" iyz="0.0" izz="0.0" />
  </inertial>
  <visual>
   <origin xyz="0 0 0"/>
   <geometry>
    <mesh filename="package://herbi_gazebo_worlds/ros/meshes/sunflower.dae"/>
   </geometry>
  </visual>
  <collision>
   <origin xyz="0 0 0.2"/>
   <geometry>
    <cylinder length="0.4" radius="0.02"/>
   </geometry>
  </collision>
 </link>

 <joint name="joint_plant_56" type="fixed">
  <origin xyz="1.938083 -1.917447 0.000000" rpy="0.000000 0.000000 0.192999" />
  <parent link="dummy_link" />
  <child link="plant_56" />
 </joint>


 <link name="plant_57">
  <inertial>
   <origin xyz="0 0 0" /> 
   <mass value="5.0" />
   <inertia ixx="0.0" ixy="0.0" ixz="0.0" iyy="0.0" iyz="0.0" izz="0.0" />
  </inertial>
  <visual>
   <origin xyz="0 0 0"/>
   <geometry>
    <mesh filename="package://herbi_gazebo_worlds/ros/meshes/sunflower.dae"/>
   </geometry>
  </visual>
  <collision>
   <origin xyz="0 0 0.2"/>
   <geometry>
    <cylinder length="0.4" radius="0.02"/>
   </geometry>
  </collision>
 </link>

 <joint name="joint_plant_57" type="fixed">
  <origin xyz="2.088467 0.385976 0.000000" rpy="0.000000 0.000000 1.872524" />
  <parent link="dummy_link" />
  <child link="plant_57" />
 </joint>


 <link name="plant_58">
  <inertial>
   <origin xyz="0 0 0" /> 
   <mass value="5.0" />
   <inertia ixx="0.0" ixy="0.0" ixz="0.0" iyy="0.0" iyz="0.0" izz="0.0" />
  </inertial>
  <visual>
   <origin xyz="0 0 0"/>
   <geometry>
    <mesh filename="package://herbi_gazebo_worlds/ros/meshes/sunflower.dae"/>
   </geometry>
  </visual>
  <collision>
   <origin xyz="0 0 0.2"/>
   <geometry>
    <cylinder length="0.4" radius="0.02"/>
   </geometry>
  </collision>
 </link>

 <joint name="joint_plant_58" type="fixed">
  <origin xyz="2.087833 -0.386236 0.000000" rpy="0.000000 0.000000 2.294237" />
  <parent link="dummy_link" />
  <child link="plant_58" />
 </joint>


 <link name="plant_59">
  <inertial>
   <origin xyz="0 0 0" /> 
   <mass value="5.0" />
   <inertia ixx="0.0" ixy="0.0" ixz="0.0" iyy="0.0" iyz="0.0" izz="0.0" />
  </inertial>
  <visual>
   <origin xyz="0 0 0"/>
   <geometry>
    <mesh filename="package://herbi_gazebo_worlds/ros/meshes/sunflower.dae"/>
   </geometry>
  </visual>
  <collision>
   <origin xyz="0 0 0.2"/>
   <geometry>
    <cylinder length="0.4" radius="0.02"/>
   </geometry>
  </collision>
 </link>

 <joint name="joint_plant_59" type="fixed">
  <origin xyz="2.128410 -1.161874 0.000000" rpy="0.000000 0.000000 2.545147" />
  <parent link="dummy_link" />
  <child link="plant_59" />
 </joint>


 <link name="plant_60">
  <inertial>
   <origin xyz="0 0 0" /> 
   <mass value="5.0" />
   <inertia ixx="0.0" ixy="0.0" ixz="0.0" iyy="0.0" iyz="0.0" izz="0.0" />
  </inertial>
  <visual>
   <origin xyz="0 0 0"/>
   <geometry>
    <mesh filename="package://herbi_gazebo_worlds/ros/meshes/sunflower.dae"/>
   </geometry>
  </visual>
  <collision>
   <origin xyz="0 0 0.2"/>
   <geometry>
    <cylinder length="0.4" radius="0.02"/>
   </geometry>
  </collision>
 </link>

 <joint name="joint_plant_60" type="fixed">
  <origin xyz="2.099943 -1.950811 0.000000" rpy="0.000000 0.000000 0.784886" />
  <parent link="dummy_link" />
  <child link="plant_60" />
 </joint>


 <link name="plant_61">
  <inertial>
   <origin xyz="0 0 0" /> 
   <mass value="5.0" />
   <inertia ixx="0.0" ixy="0.0" ixz="0.0" iyy="0.0" iyz="0.0" izz="0.0" />
  </inertial>
  <visual>
   <origin xyz="0 0 0"/>
   <geometry>
    <mesh filename="package://herbi_gazebo_worlds/ros/meshes/sunflower.dae"/>
   </geometry>
  </visual>
  <collision>
   <origin xyz="0 0 0.2"/>
   <geometry>
    <cylinder length="0.4" radius="0.02"/>
   </geometry>
  </collision>
 </link>

 <joint name="joint_plant_61" type="fixed">
  <origin xyz="2.272692 0.407416 0.000000" rpy="0.000000 0.000000 1.837074" />
  <parent link="dummy_link" />
  <child link="plant_61" />
 </joint>


 <link name="plant_62">
  <inertial>
   <origin xyz="0 0 0" /> 
   <mass value="5.0" />
   <inertia ixx="0.0" ixy="0.0" ixz="0.0" iyy="0.0" iyz="0.0" izz="0.0" />
  </inertial>
  <visual>
   <origin xyz="0 0 0"/>
   <geometry>
    <mesh filename="package://herbi_gazebo_worlds/ros/meshes/sunflower.dae"/>
   </geometry>
  </visual>
  <collision>
   <origin xyz="0 0 0.2"/>
   <geometry>
    <cylinder length="0.4" radius="0.02"/>
   </geometry>
  </collision>
 </link>

 <joint name="joint_plant_62" type="fixed">
  <origin xyz="2.293841 -0.365513 0.000000" rpy="0.000000 0.000000 0.379458" />
  <parent link="dummy_link" />
  <child link="plant_62" />
 </joint>


 <link name="plant_63">
  <inertial>
   <origin xyz="0 0 0" /> 
   <mass value="5.0" />
   <inertia ixx="0.0" ixy="0.0" ixz="0.0" iyy="0.0" iyz="0.0" izz="0.0" />
  </inertial>
  <visual>
   <origin xyz="0 0 0"/>
   <geometry>
    <mesh filename="package://herbi_gazebo_worlds/ros/meshes/sunflower.dae"/>
   </geometry>
  </visual>
  <collision>
   <origin xyz="0 0 0.2"/>
   <geometry>
    <cylinder length="0.4" radius="0.02"/>
   </geometry>
  </collision>
 </link>

 <joint name="joint_plant_63" type="fixed">
  <origin xyz="2.243614 -1.139248 0.000000" rpy="0.000000 0.000000 0.666727" />
  <parent link="dummy_link" />
  <child link="plant_63" />
 </joint>


 <link name="plant_64">
  <inertial>
   <origin xyz="0 0 0" /> 
   <mass value="5.0" />
   <inertia ixx="0.0" ixy="0.0" ixz="0.0" iyy="0.0" iyz="0.0" izz="0.0" />
  </inertial>
  <visual>
   <origin xyz="0 0 0"/>
   <geometry>
    <mesh filename="package://herbi_gazebo_worlds/ros/meshes/sunflower.dae"/>
   </geometry>
  </visual>
  <collision>
   <origin xyz="0 0 0.2"/>
   <geometry>
    <cylinder length="0.4" radius="0.02"/>
   </geometry>
  </collision>
 </link>

 <joint name="joint_plant_64" type="fixed">
  <origin xyz="2.233644 -1.877887 0.000000" rpy="0.000000 0.000000 0.143616" />
  <parent link="dummy_link" />
  <child link="plant_64" />
 </joint>


 <link name="plant_65">
  <inertial>
   <origin xyz="0 0 0" /> 
   <mass value="5.0" />
   <inertia ixx="0.0" ixy="0.0" ixz="0.0" iyy="0.0" iyz="0.0" izz="0.0" />
  </inertial>
  <visual>
   <origin xyz="0 0 0"/>
   <geometry>
    <mesh filename="package://herbi_gazebo_worlds/ros/meshes/sunflower.dae"/>
   </geometry>
  </visual>
  <collision>
   <origin xyz="0 0 0.2"/>
   <geometry>
    <cylinder length="0.4" radius="0.02"/>
   </geometry>
  </collision>
 </link>

 <joint name="joint_plant_65" type="fixed">
  <origin xyz="2.378880 0.398423 0.000000" rpy="0.000000 0.000000 0.397296" />
  <parent link="dummy_link" />
  <child link="plant_65" />
 </joint>


 <link name="plant_66">
  <inertial>
   <origin xyz="0 0 0" /> 
   <mass value="5.0" />
   <inertia ixx="0.0" ixy="0.0" ixz="0.0" iyy="0.0" iyz="0.0" izz="0.0" />
  </inertial>
  <visual>
   <origin xyz="0 0 0"/>
   <geometry>
    <mesh filename="package://herbi_gazebo_worlds/ros/meshes/sunflower.dae"/>
   </geometry>
  </visual>
  <collision>
   <origin xyz="0 0 0.2"/>
   <geometry>
    <cylinder length="0.4" radius="0.02"/>
   </geometry>
  </collision>
 </link>

 <joint name="joint_plant_66" type="fixed">
  <origin xyz="2.410961 -0.375705 0.000000" rpy="0.000000 0.000000 0.560390" />
  <parent link="dummy_link" />
  <child link="plant_66" />
 </joint>


 <link name="plant_67">
  <inertial>
   <origin xyz="0 0 0" /> 
   <mass value="5.0" />
   <inertia ixx="0.0" ixy="0.0" ixz="0.0" iyy="0.0" iyz="0.0" izz="0.0" />
  </inertial>
  <visual>
   <origin xyz="0 0 0"/>
   <geometry>
    <mesh filename="package://herbi_gazebo_worlds/ros/meshes/sunflower.dae"/>
   </geometry>
  </visual>
  <collision>
   <origin xyz="0 0 0.2"/>
   <geometry>
    <cylinder length="0.4" radius="0.02"/>
   </geometry>
  </collision>
 </link>

 <joint name="joint_plant_67" type="fixed">
  <origin xyz="2.399169 -1.144711 0.000000" rpy="0.000000 0.000000 2.201160" />
  <parent link="dummy_link" />
  <child link="plant_67" />
 </joint>


 <link name="plant_68">
  <inertial>
   <origin xyz="0 0 0" /> 
   <mass value="5.0" />
   <inertia ixx="0.0" ixy="0.0" ixz="0.0" iyy="0.0" iyz="0.0" izz="0.0" />
  </inertial>
  <visual>
   <origin xyz="0 0 0"/>
   <geometry>
    <mesh filename="package://herbi_gazebo_worlds/ros/meshes/sunflower.dae"/>
   </geometry>
  </visual>
  <collision>
   <origin xyz="0 0 0.2"/>
   <geometry>
    <cylinder length="0.4" radius="0.02"/>
   </geometry>
  </collision>
 </link>

 <joint name="joint_plant_68" type="fixed">
  <origin xyz="2.403933 -1.886035 0.000000" rpy="0.000000 0.000000 1.635618" />
  <parent link="dummy_link" />
  <child link="plant_68" />
 </joint>


 <link name="plant_69">
  <inertial>
   <origin xyz="0 0 0" /> 
   <mass value="5.0" />
   <inertia ixx="0.0" ixy="0.0" ixz="0.0" iyy="0.0" iyz="0.0" izz="0.0" />
  </inertial>
  <visual>
   <origin xyz="0 0 0"/>
   <geometry>
    <mesh filename="package://herbi_gazebo_worlds/ros/meshes/sunflower.dae"/>
   </geometry>
  </visual>
  <collision>
   <origin xyz="0 0 0.2"/>
   <geometry>
    <cylinder length="0.4" radius="0.02"/>
   </geometry>
  </collision>
 </link>

 <joint name="joint_plant_69" type="fixed">
  <origin xyz="2.552784 0.390551 0.000000" rpy="0.000000 0.000000 3.129329" />
  <parent link="dummy_link" />
  <child link="plant_69" />
 </joint>


 <link name="plant_70">
  <inertial>
   <origin xyz="0 0 0" /> 
   <mass value="5.0" />
   <inertia ixx="0.0" ixy="0.0" ixz="0.0" iyy="0.0" iyz="0.0" izz="0.0" />
  </inertial>
  <visual>
   <origin xyz="0 0 0"/>
   <geometry>
    <mesh filename="package://herbi_gazebo_worlds/ros/meshes/sunflower.dae"/>
   </geometry>
  </visual>
  <collision>
   <origin xyz="0 0 0.2"/>
   <geometry>
    <cylinder length="0.4" radius="0.02"/>
   </geometry>
  </collision>
 </link>

 <joint name="joint_plant_70" type="fixed">
  <origin xyz="2.571110 -0.386293 0.000000" rpy="0.000000 0.000000 3.134044" />
  <parent link="dummy_link" />
  <child link="plant_70" />
 </joint>


 <link name="plant_71">
  <inertial>
   <origin xyz="0 0 0" /> 
   <mass value="5.0" />
   <inertia ixx="0.0" ixy="0.0" ixz="0.0" iyy="0.0" iyz="0.0" izz="0.0" />
  </inertial>
  <visual>
   <origin xyz="0 0 0"/>
   <geometry>
    <mesh filename="package://herbi_gazebo_worlds/ros/meshes/sunflower.dae"/>
   </geometry>
  </visual>
  <collision>
   <origin xyz="0 0 0.2"/>
   <geometry>
    <cylinder length="0.4" radius="0.02"/>
   </geometry>
  </collision>
 </link>

 <joint name="joint_plant_71" type="fixed">
  <origin xyz="2.556810 -1.140301 0.000000" rpy="0.000000 0.000000 1.233319" />
  <parent link="dummy_link" />
  <child link="plant_71" />
 </joint>


 <link name="plant_72">
  <inertial>
   <origin xyz="0 0 0" /> 
   <mass value="5.0" />
   <inertia ixx="0.0" ixy="0.0" ixz="0.0" iyy="0.0" iyz="0.0" izz="0.0" />
  </inertial>
  <visual>
   <origin xyz="0 0 0"/>
   <geometry>
    <mesh filename="package://herbi_gazebo_worlds/ros/meshes/sunflower.dae"/>
   </geometry>
  </visual>
  <collision>
   <origin xyz="0 0 0.2"/>
   <geometry>
    <cylinder length="0.4" radius="0.02"/>
   </geometry>
  </collision>
 </link>

 <joint name="joint_plant_72" type="fixed">
  <origin xyz="2.554646 -1.949897 0.000000" rpy="0.000000 0.000000 0.935696" />
  <parent link="dummy_link" />
  <child link="plant_72" />
 </joint>


 <link name="plant_73">
  <inertial>
   <origin xyz="0 0 0" /> 
   <mass value="5.0" />
   <inertia ixx="0.0" ixy="0.0" ixz="0.0" iyy="0.0" iyz="0.0" izz="0.0" />
  </inertial>
  <visual>
   <origin xyz="0 0 0"/>
   <geometry>
    <mesh filename="package://herbi_gazebo_worlds/ros/meshes/sunflower.dae"/>
   </geometry>
  </visual>
  <collision>
   <origin xyz="0 0 0.2"/>
   <geometry>
    <cylinder length="0.4" radius="0.02"/>
   </geometry>
  </collision>
 </link>

 <joint name="joint_plant_73" type="fixed">
  <origin xyz="2.702523 0.343085 0.000000" rpy="0.000000 0.000000 3.005238" />
  <parent link="dummy_link" />
  <child link="plant_73" />
 </joint>


 <link name="plant_74">
  <inertial>
   <origin xyz="0 0 0" /> 
   <mass value="5.0" />
   <inertia ixx="0.0" ixy="0.0" ixz="0.0" iyy="0.0" iyz="0.0" izz="0.0" />
  </inertial>
  <visual>
   <origin xyz="0 0 0"/>
   <geometry>
    <mesh filename="package://herbi_gazebo_worlds/ros/meshes/sunflower.dae"/>
   </geometry>
  </visual>
  <collision>
   <origin xyz="0 0 0.2"/>
   <geometry>
    <cylinder length="0.4" radius="0.02"/>
   </geometry>
  </collision>
 </link>

 <joint name="joint_plant_74" type="fixed">
  <origin xyz="2.703181 -0.382758 0.000000" rpy="0.000000 0.000000 2.779593" />
  <parent link="dummy_link" />
  <child link="plant_74" />
 </joint>


 <link name="plant_75">
  <inertial>
   <origin xyz="0 0 0" /> 
   <mass value="5.0" />
   <inertia ixx="0.0" ixy="0.0" ixz="0.0" iyy="0.0" iyz="0.0" izz="0.0" />
  </inertial>
  <visual>
   <origin xyz="0 0 0"/>
   <geometry>
    <mesh filename="package://herbi_gazebo_worlds/ros/meshes/sunflower.dae"/>
   </geometry>
  </visual>
  <collision>
   <origin xyz="0 0 0.2"/>
   <geometry>
    <cylinder length="0.4" radius="0.02"/>
   </geometry>
  </collision>
 </link>

 <joint name="joint_plant_75" type="fixed">
  <origin xyz="2.681431 -1.136997 0.000000" rpy="0.000000 0.000000 0.157316" />
  <parent link="dummy_link" />
  <child link="plant_75" />
 </joint>


 <link name="plant_76">
  <inertial>
   <origin xyz="0 0 0" /> 
   <mass value="5.0" />
   <inertia ixx="0.0" ixy="0.0" ixz="0.0" iyy="0.0" iyz="0.0" izz="0.0" />
  </inertial>
  <visual>
   <origin xyz="0 0 0"/>
   <geometry>
    <mesh filename="package://herbi_gazebo_worlds/ros/meshes/sunflower.dae"/>
   </geometry>
  </visual>
  <collision>
   <origin xyz="0 0 0.2"/>
   <geometry>
    <cylinder length="0.4" radius="0.02"/>
   </geometry>
  </collision>
 </link>

 <joint name="joint_plant_76" type="fixed">
  <origin xyz="2.663837 -1.890682 0.000000" rpy="0.000000 0.000000 2.883705" />
  <parent link="dummy_link" />
  <child link="plant_76" />
 </joint>


 <link name="plant_77">
  <inertial>
   <origin xyz="0 0 0" /> 
   <mass value="5.0" />
   <inertia ixx="0.0" ixy="0.0" ixz="0.0" iyy="0.0" iyz="0.0" izz="0.0" />
  </inertial>
  <visual>
   <origin xyz="0 0 0"/>
   <geometry>
    <mesh filename="package://herbi_gazebo_worlds/ros/meshes/sunflower.dae"/>
   </geometry>
  </visual>
  <collision>
   <origin xyz="0 0 0.2"/>
   <geometry>
    <cylinder length="0.4" radius="0.02"/>
   </geometry>
  </collision>
 </link>

 <joint name="joint_plant_77" type="fixed">
  <origin xyz="2.865471 0.375345 0.000000" rpy="0.000000 0.000000 0.087668" />
  <parent link="dummy_link" />
  <child link="plant_77" />
 </joint>


 <link name="plant_78">
  <inertial>
   <origin xyz="0 0 0" /> 
   <mass value="5.0" />
   <inertia ixx="0.0" ixy="0.0" ixz="0.0" iyy="0.0" iyz="0.0" izz="0.0" />
  </inertial>
  <visual>
   <origin xyz="0 0 0"/>
   <geometry>
    <mesh filename="package://herbi_gazebo_worlds/ros/meshes/sunflower.dae"/>
   </geometry>
  </visual>
  <collision>
   <origin xyz="0 0 0.2"/>
   <geometry>
    <cylinder length="0.4" radius="0.02"/>
   </geometry>
  </collision>
 </link>

 <joint name="joint_plant_78" type="fixed">
  <origin xyz="2.847493 -0.376984 0.000000" rpy="0.000000 0.000000 1.169721" />
  <parent link="dummy_link" />
  <child link="plant_78" />
 </joint>


 <link name="plant_79">
  <inertial>
   <origin xyz="0 0 0" /> 
   <mass value="5.0" />
   <inertia ixx="0.0" ixy="0.0" ixz="0.0" iyy="0.0" iyz="0.0" izz="0.0" />
  </inertial>
  <visual>
   <origin xyz="0 0 0"/>
   <geometry>
    <mesh filename="package://herbi_gazebo_worlds/ros/meshes/sunflower.dae"/>
   </geometry>
  </visual>
  <collision>
   <origin xyz="0 0 0.2"/>
   <geometry>
    <cylinder length="0.4" radius="0.02"/>
   </geometry>
  </collision>
 </link>

 <joint name="joint_plant_79" type="fixed">
  <origin xyz="2.849550 -1.164040 0.000000" rpy="0.000000 0.000000 2.444516" />
  <parent link="dummy_link" />
  <child link="plant_79" />
 </joint>


 <link name="plant_80">
  <inertial>
   <origin xyz="0 0 0" /> 
   <mass value="5.0" />
   <inertia ixx="0.0" ixy="0.0" ixz="0.0" iyy="0.0" iyz="0.0" izz="0.0" />
  </inertial>
  <visual>
   <origin xyz="0 0 0"/>
   <geometry>
    <mesh filename="package://herbi_gazebo_worlds/ros/meshes/sunflower.dae"/>
   </geometry>
  </visual>
  <collision>
   <origin xyz="0 0 0.2"/>
   <geometry>
    <cylinder length="0.4" radius="0.02"/>
   </geometry>
  </collision>
 </link>

 <joint name="joint_plant_80" type="fixed">
  <origin xyz="2.898151 -1.849481 0.000000" rpy="0.000000 0.000000 1.022046" />
  <parent link="dummy_link" />
  <child link="plant_80" />
 </joint>


 <link name="plant_81">
  <inertial>
   <origin xyz="0 0 0" /> 
   <mass value="5.0" />
   <inertia ixx="0.0" ixy="0.0" ixz="0.0" iyy="0.0" iyz="0.0" izz="0.0" />
  </inertial>
  <visual>
   <origin xyz="0 0 0"/>
   <geometry>
    <mesh filename="package://herbi_gazebo_worlds/ros/meshes/sunflower.dae"/>
   </geometry>
  </visual>
  <collision>
   <origin xyz="0 0 0.2"/>
   <geometry>
    <cylinder length="0.4" radius="0.02"/>
   </geometry>
  </collision>
 </link>

 <joint name="joint_plant_81" type="fixed">
  <origin xyz="2.950814 0.363563 0.000000" rpy="0.000000 0.000000 0.294676" />
  <parent link="dummy_link" />
  <child link="plant_81" />
 </joint>


 <link name="plant_82">
  <inertial>
   <origin xyz="0 0 0" /> 
   <mass value="5.0" />
   <inertia ixx="0.0" ixy="0.0" ixz="0.0" iyy="0.0" iyz="0.0" izz="0.0" />
  </inertial>
  <visual>
   <origin xyz="0 0 0"/>
   <geometry>
    <mesh filename="package://herbi_gazebo_worlds/ros/meshes/sunflower.dae"/>
   </geometry>
  </visual>
  <collision>
   <origin xyz="0 0 0.2"/>
   <geometry>
    <cylinder length="0.4" radius="0.02"/>
   </geometry>
  </collision>
 </link>

 <joint name="joint_plant_82" type="fixed">
  <origin xyz="2.988153 -0.406997 0.000000" rpy="0.000000 0.000000 1.019737" />
  <parent link="dummy_link" />
  <child link="plant_82" />
 </joint>


 <link name="plant_83">
  <inertial>
   <origin xyz="0 0 0" /> 
   <mass value="5.0" />
   <inertia ixx="0.0" ixy="0.0" ixz="0.0" iyy="0.0" iyz="0.0" izz="0.0" />
  </inertial>
  <visual>
   <origin xyz="0 0 0"/>
   <geometry>
    <mesh filename="package://herbi_gazebo_worlds/ros/meshes/sunflower.dae"/>
   </geometry>
  </visual>
  <collision>
   <origin xyz="0 0 0.2"/>
   <geometry>
    <cylinder length="0.4" radius="0.02"/>
   </geometry>
  </collision>
 </link>

 <joint name="joint_plant_83" type="fixed">
  <origin xyz="2.996321 -1.117520 0.000000" rpy="0.000000 0.000000 1.490305" />
  <parent link="dummy_link" />
  <child link="plant_83" />
 </joint>


 <link name="plant_84">
  <inertial>
   <origin xyz="0 0 0" /> 
   <mass value="5.0" />
   <inertia ixx="0.0" ixy="0.0" ixz="0.0" iyy="0.0" iyz="0.0" izz="0.0" />
  </inertial>
  <visual>
   <origin xyz="0 0 0"/>
   <geometry>
    <mesh filename="package://herbi_gazebo_worlds/ros/meshes/sunflower.dae"/>
   </geometry>
  </visual>
  <collision>
   <origin xyz="0 0 0.2"/>
   <geometry>
    <cylinder length="0.4" radius="0.02"/>
   </geometry>
  </collision>
 </link>

 <joint name="joint_plant_84" type="fixed">
  <origin xyz="3.036546 -1.880744 0.000000" rpy="0.000000 0.000000 1.704963" />
  <parent link="dummy_link" />
  <child link="plant_84" />
 </joint>




</robot>
